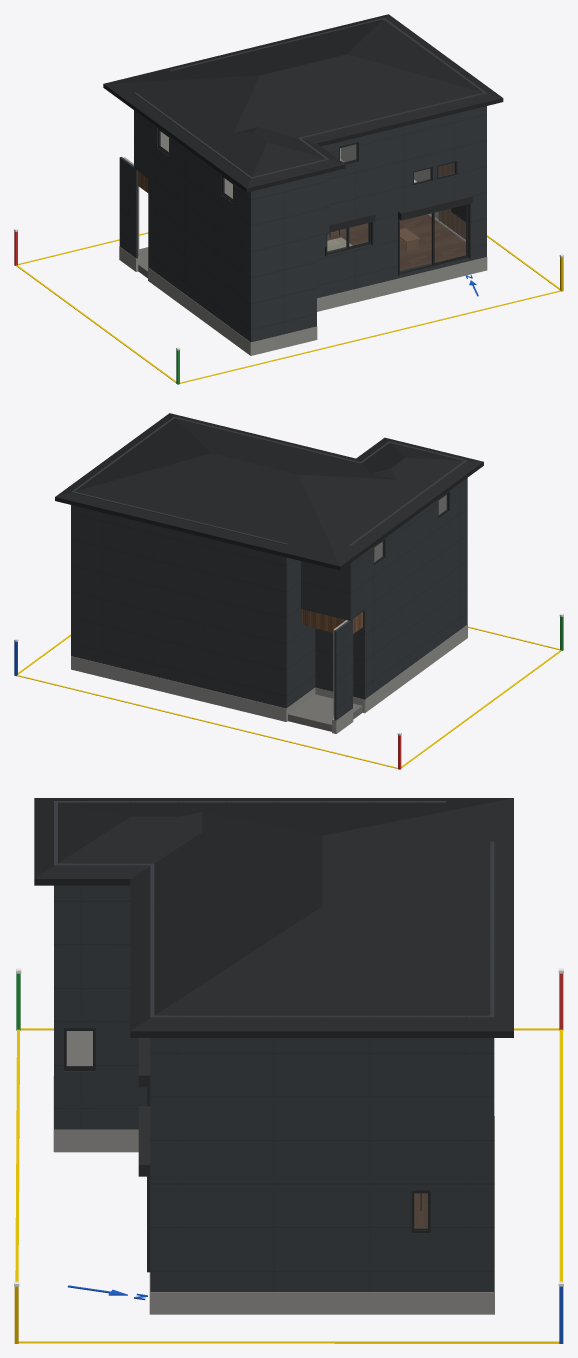
Rendered from A_20_half.glb.
3 views of the same model, one above another, from view 1: azimuth 30°, elevation 25°; view 2: azimuth 150°, elevation 25°; view 3: azimuth 270°, elevation 25° (orthographic). The views are drawn at different scales.
Parts seen in each view (by area): view 1: siding, roof, found, glass, floor, shutter, lotline, frame, wall, accent; view 2: siding, roof, found, lotline, tile, woodceil, wall; view 3: siding, roof, found, lotline, shutter, glass, wall, frame.
Boxes of the visible parts, bbox=[...] form: siding: bbox=[119, 18, 486, 342]; roof: bbox=[103, 14, 503, 192]; found: bbox=[119, 246, 487, 355]; glass: bbox=[160, 132, 465, 271]; floor: bbox=[327, 214, 465, 270]; shutter: bbox=[325, 193, 473, 275]; lotline: bbox=[16, 232, 560, 383]; frame: bbox=[158, 128, 468, 274]; wall: bbox=[123, 131, 438, 253]; accent: bbox=[438, 162, 465, 239]; siding: bbox=[71, 417, 467, 720]; roof: bbox=[55, 413, 483, 570]; found: bbox=[71, 624, 467, 733]; lotline: bbox=[17, 626, 561, 768]; tile: bbox=[288, 694, 362, 731]; woodceil: bbox=[302, 609, 362, 633]; wall: bbox=[333, 495, 446, 715]; siding: bbox=[54, 801, 494, 1291]; roof: bbox=[34, 798, 513, 1037]; found: bbox=[53, 1076, 494, 1314]; lotline: bbox=[15, 1028, 562, 1343]; shutter: bbox=[138, 1038, 150, 1272]; glass: bbox=[67, 1031, 427, 1227]; wall: bbox=[66, 1031, 92, 1065]; frame: bbox=[64, 1028, 430, 1233].
Size of the model in its own units: 14.14 by 7.01 by 10.42.
31 materials, 6 textured.
